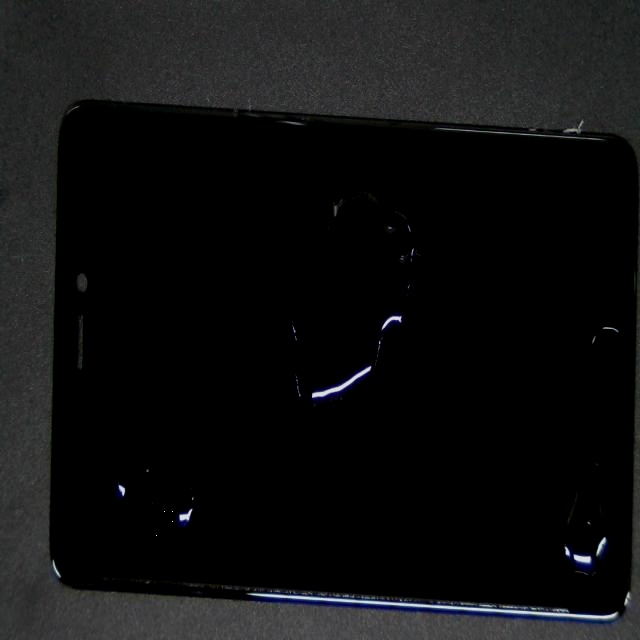oil: (198, 54, 495, 313), (121, 195, 235, 640)
